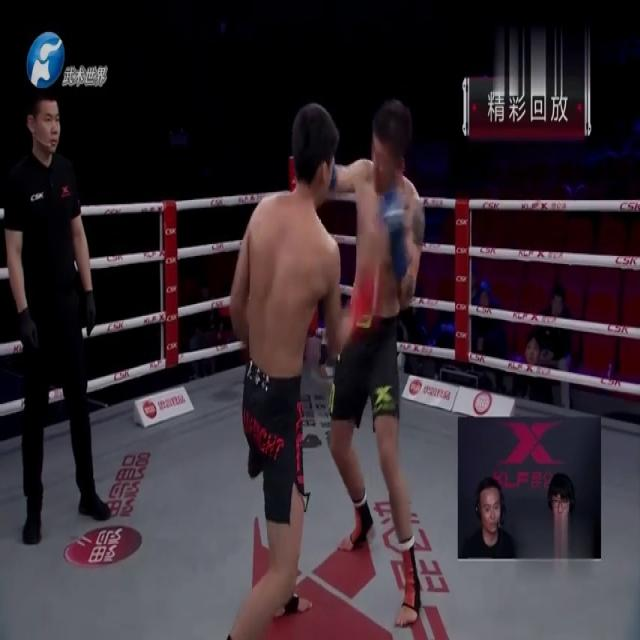fight: (220, 87, 437, 637)
non-fight: (0, 80, 108, 544)
